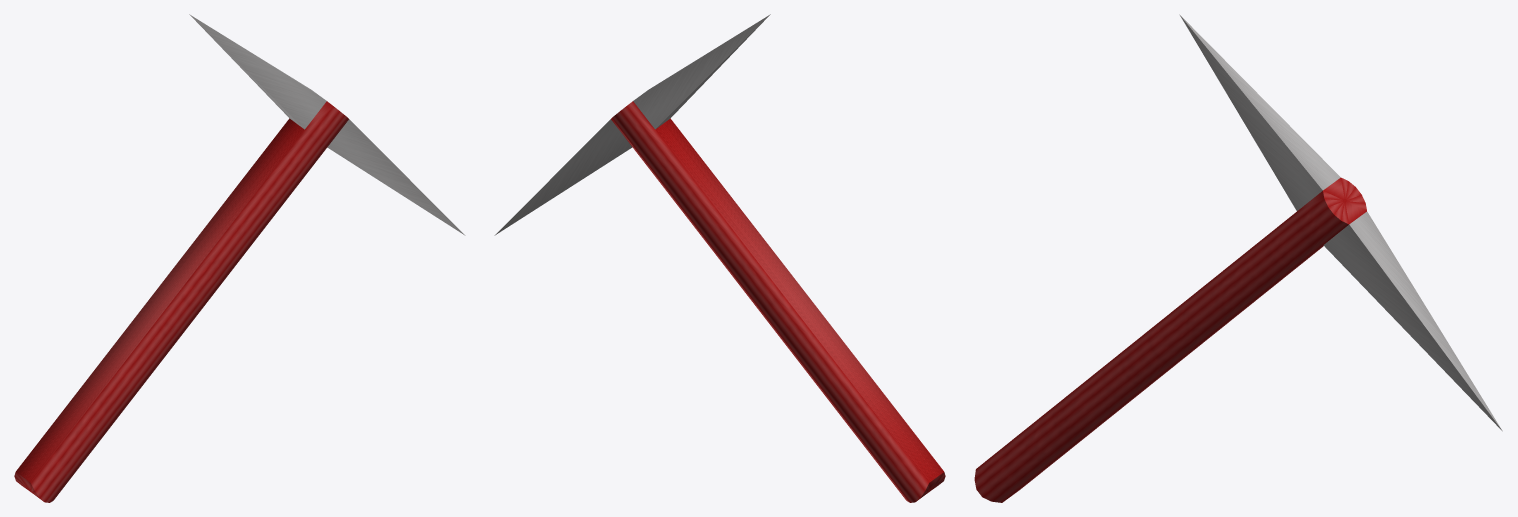
Rendered from dubbelPin.obj.
3 renders of one model, left to right at view 1: azimuth 30°, elevation 25°; view 2: azimuth 150°, elevation 25°; view 3: azimuth 330°, elevation 25°, orthographic. The views are drawn at different scales.
Parts seen in each view (by area): view 1: dubbelPin; view 2: dubbelPin; view 3: dubbelPin.
Part boxes in pixels (x1,y1,x2,y2): dubbelPin: (14, 14, 465, 502); dubbelPin: (494, 14, 945, 502); dubbelPin: (974, 14, 1502, 502).
Bounding box in the file's own units: 2.14 × 2.06 × 0.197.
Materials: 1 (1 with a texture image).
